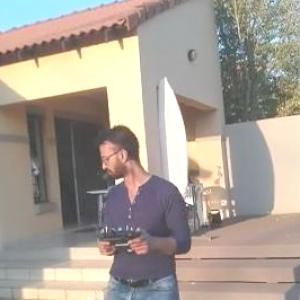follow: (92, 124, 193, 299)
